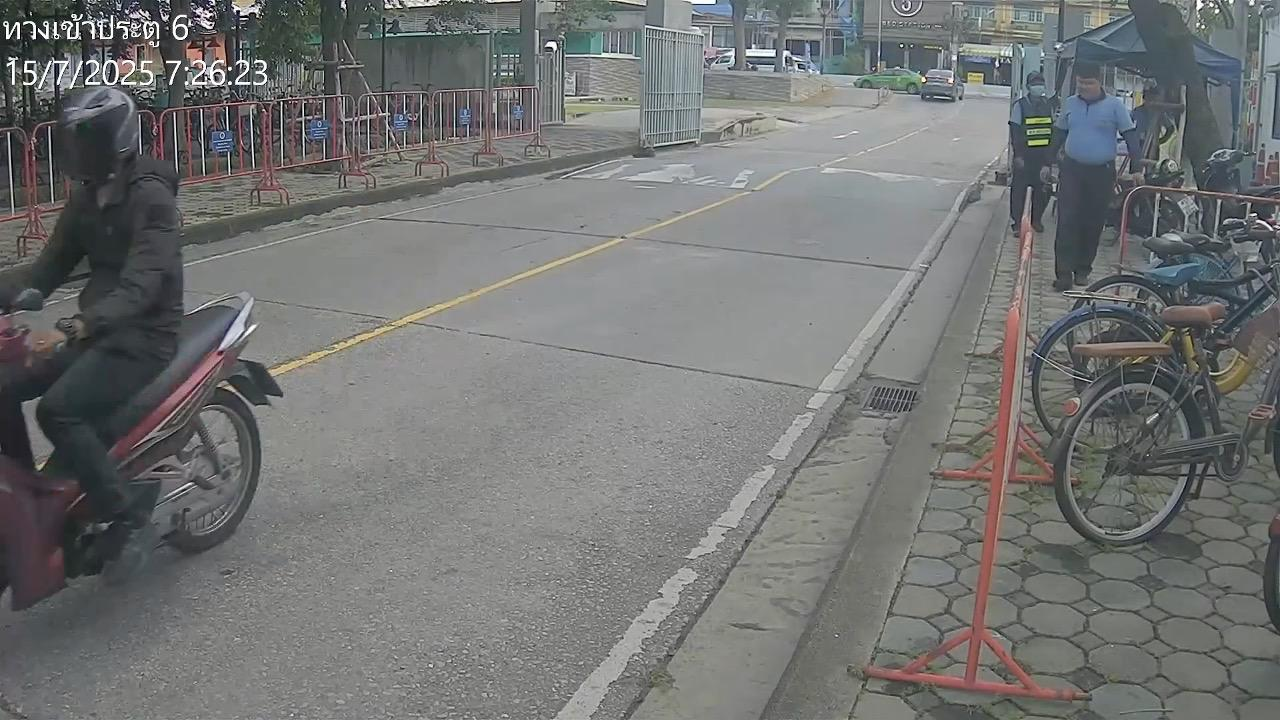With-Helmet: (55, 85, 143, 172)
